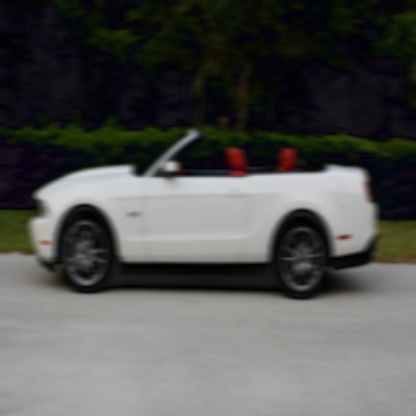Vehicle: (28, 123, 380, 304)
